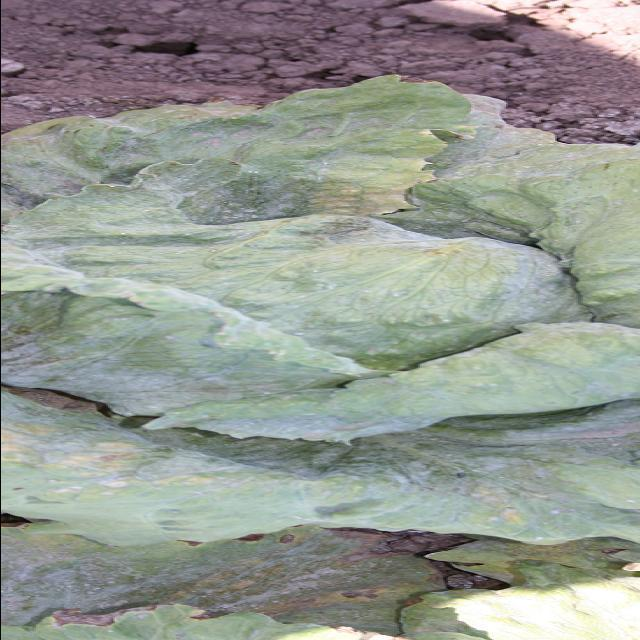Powdery_mildew_on_lettuce: (30, 148, 632, 532)
